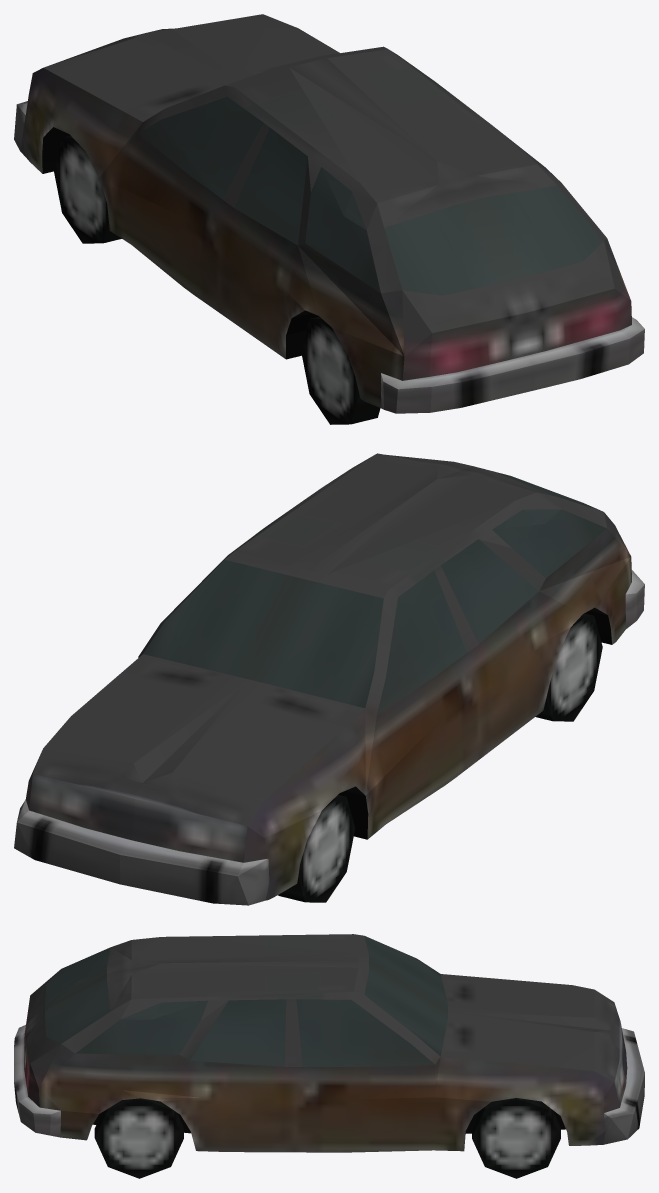
Rendered from car4.glb.
3 views of the same model, one above another, from view 1: azimuth 30°, elevation 25°; view 2: azimuth 150°, elevation 25°; view 3: azimuth 270°, elevation 25° (orthographic). The views are drawn at different scales.
Parts seen in each view (by area): view 1: car4_Material01_0; view 2: car4_Material01_0; view 3: car4_Material01_0.
Boxes of the visible parts, x1,y1,x2,y2 form: car4_Material01_0: [14, 14, 644, 424]; car4_Material01_0: [14, 453, 644, 905]; car4_Material01_0: [14, 934, 644, 1178].
Size of the model in its own units: 1.54 by 1.24 by 4.09.
Materials: 1 (1 with a texture image).
